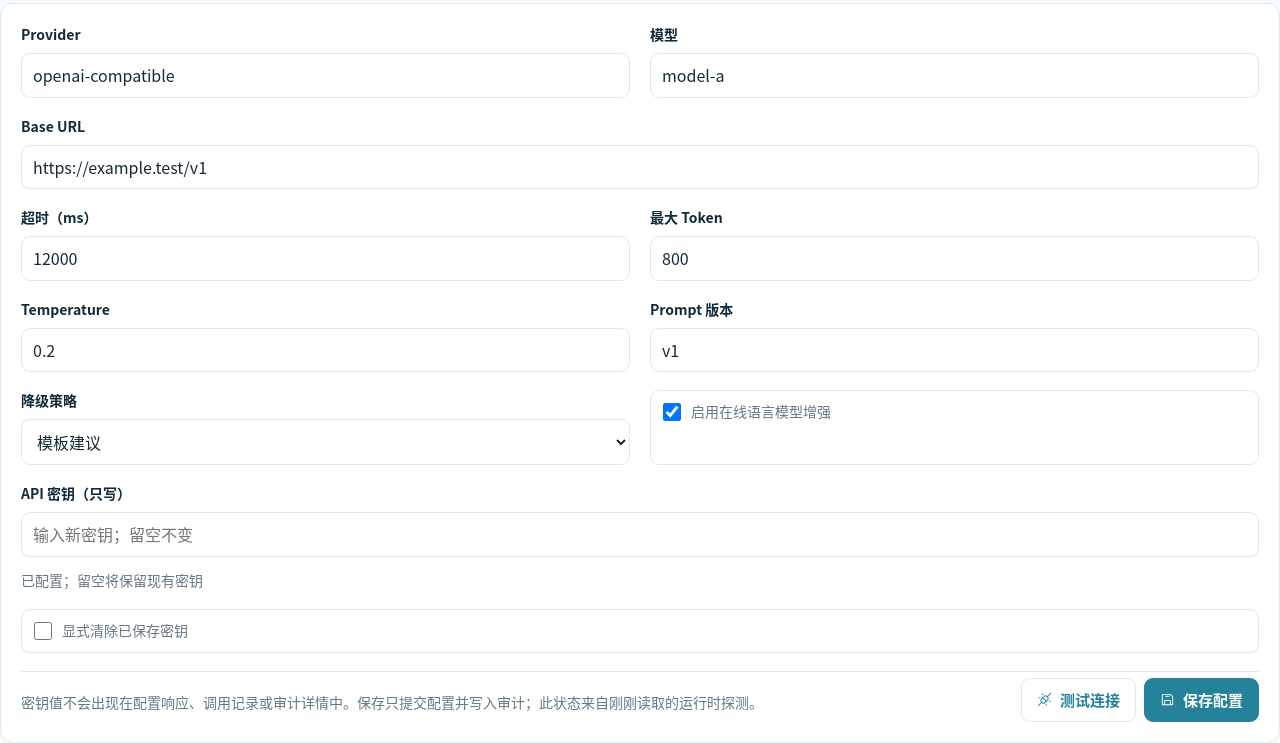
admin 权限和 AI 配置 › 测试连接只报告单次真实探测，不宣称持续在线
The image size is (1280, 743).
(page scrolled)
Expected: the field showing "model-a" is shown, top-left (650, 53), bottom-right (1259, 98)
Click the button "测试连接": (1078, 700) top-left (1021, 678), bottom-right (1136, 722)
(page scrolled)
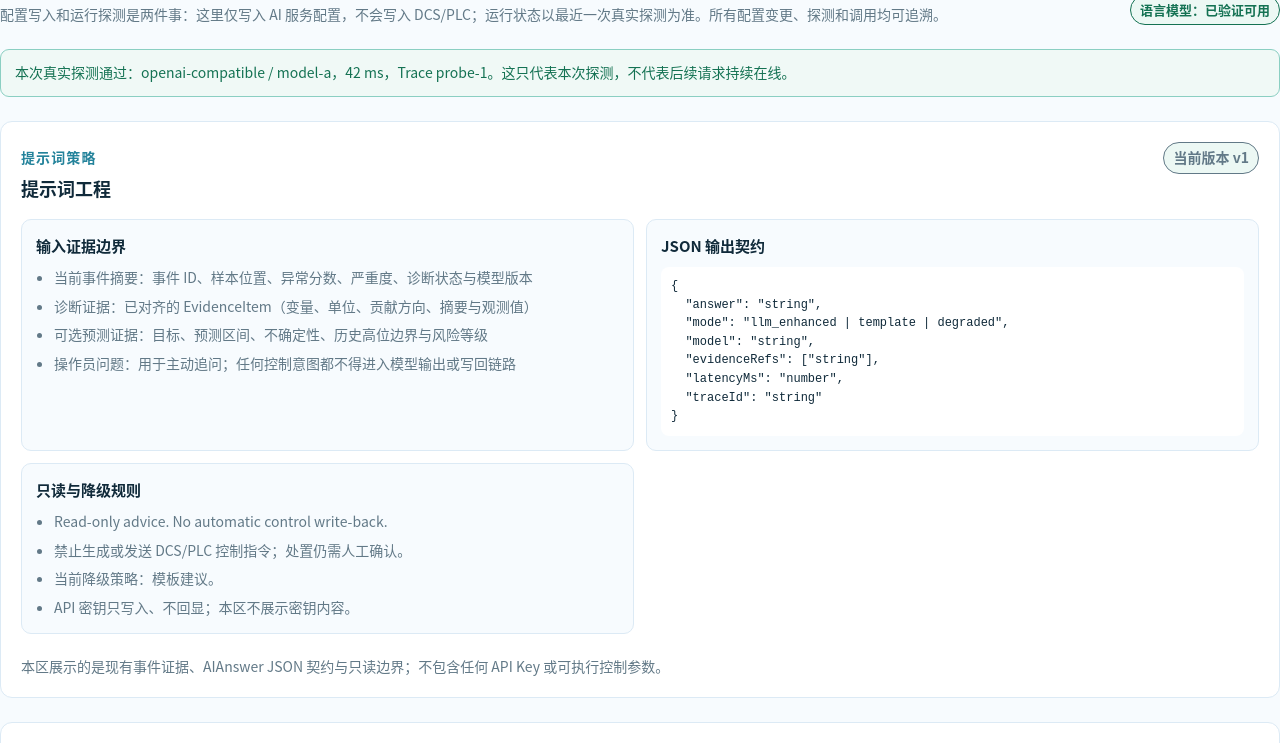
Expected: the text "本次真实探测通过：openai-compatible / model-a，42 ms，Trace probe-1。这只代表本次探测，不代表后续请求持续在线。" is shown, top-left (0, 49), bottom-right (1279, 97)
